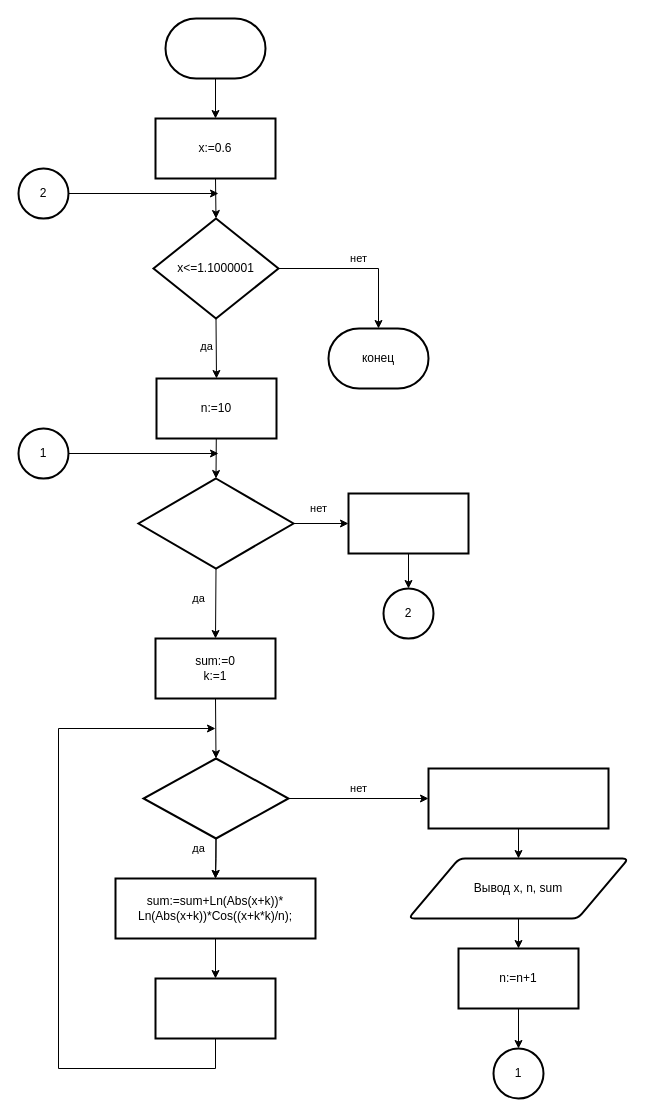
Some shapes in this 646 by 1116 pixel diagram are drawn without their labels. Here are the shapes that lost their labels. From the top down, the centre of each, then its label:
At [215,48]: "начало".
At [215,523]: "n<=15".
At [408,523]: "x:=x+0.25".
At [215,798]: "k<=n".
At [518,798]: "sum:=sum/3*exp(x/2*ln(2));".
At [215,1008]: "k:=k+1".
